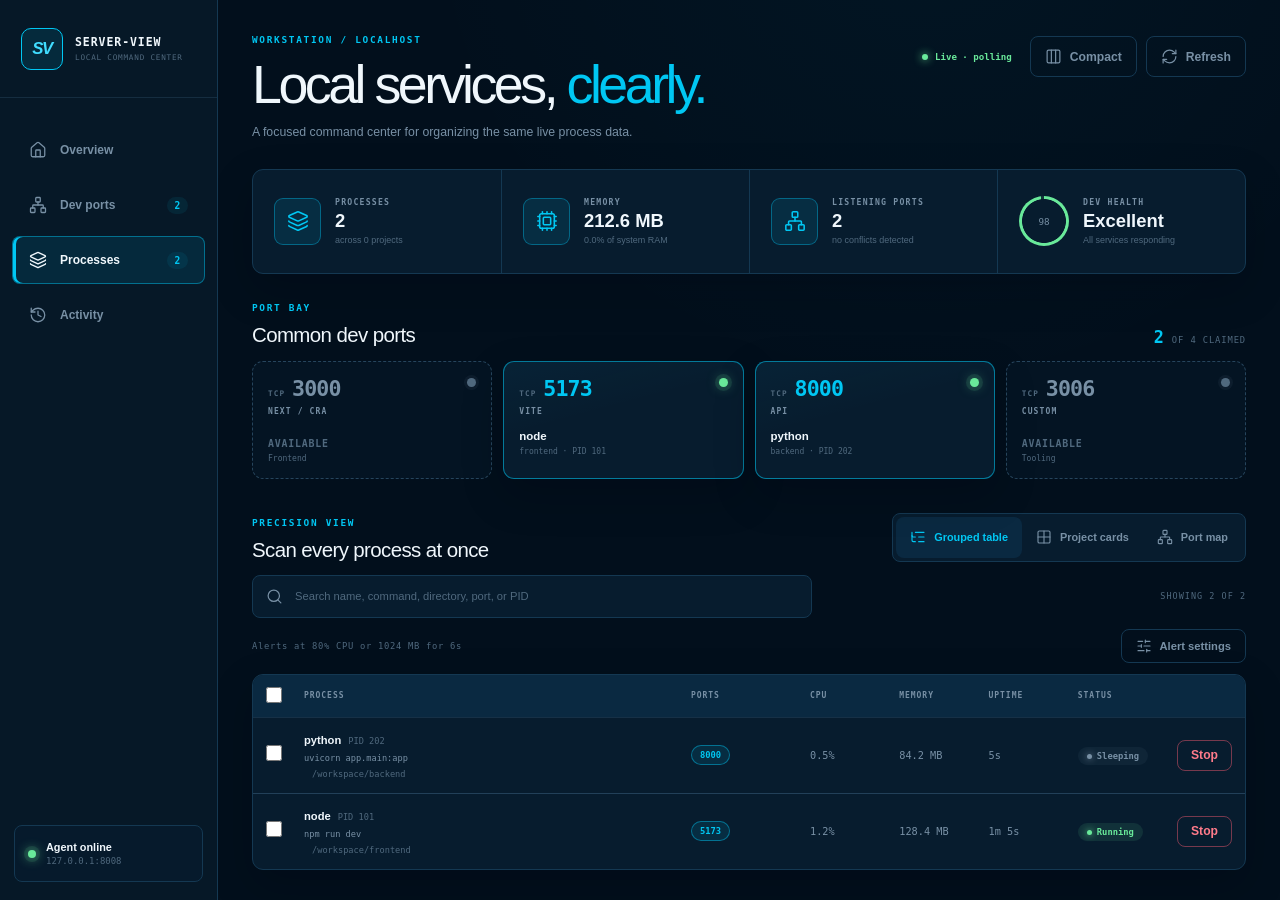
Scenario: App › renders populated table and filters by port and cwd
Expected: the text "npm run dev" is shown, [304,829,361,839]
Expected: the text "uvicorn app.main:app" is shown, [304,753,408,763]
Step 1. Type "uvicorn" into the search field labelled "Search" → [532, 596], box [252,575,812,618]
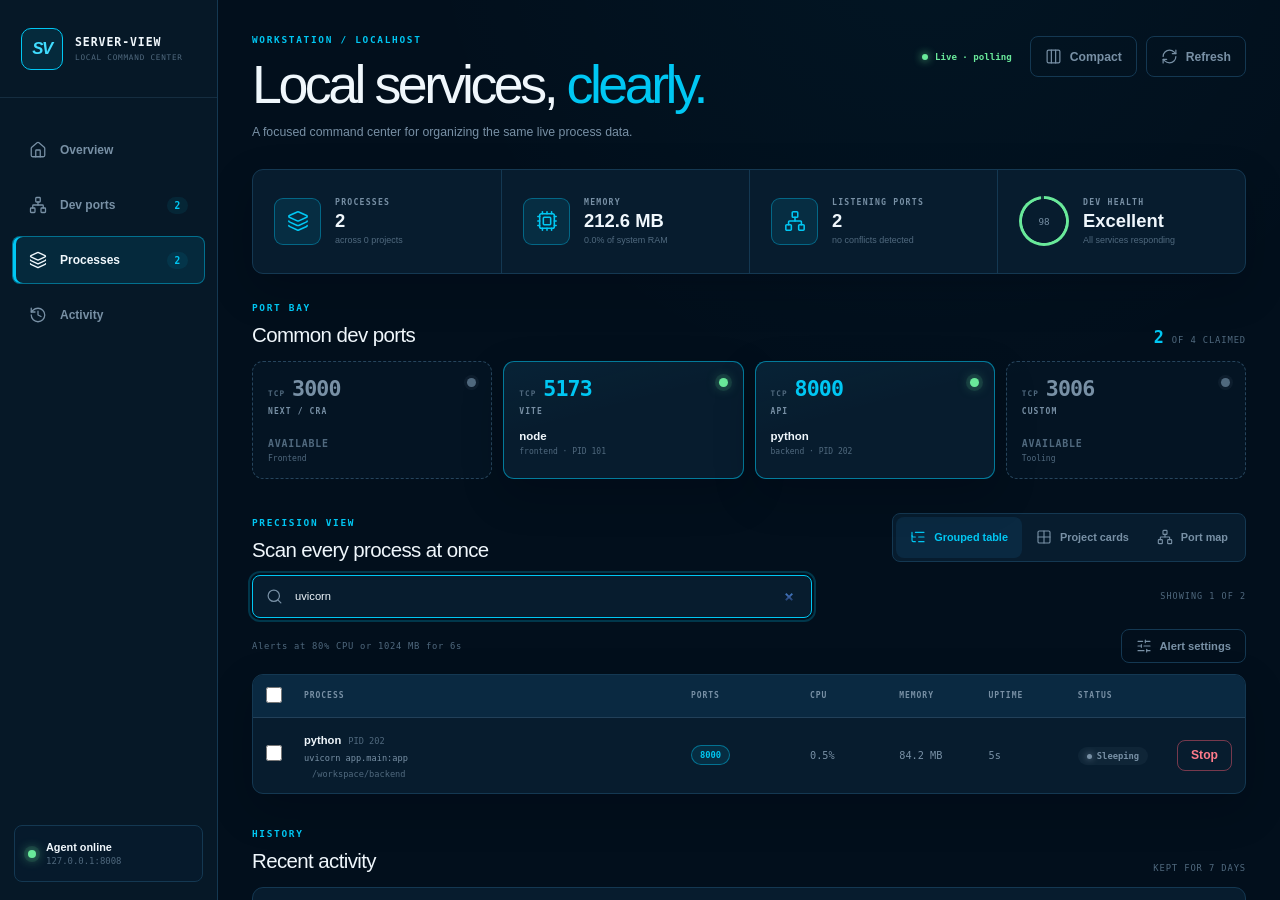
Expected: the text "uvicorn app.main:app" is shown, [304,753,408,763]
Expected: the text "npm run dev" is gone
Step 2. Replace the text in the search field named "Search" with "frontend" → [532, 596], box [252,575,812,618]
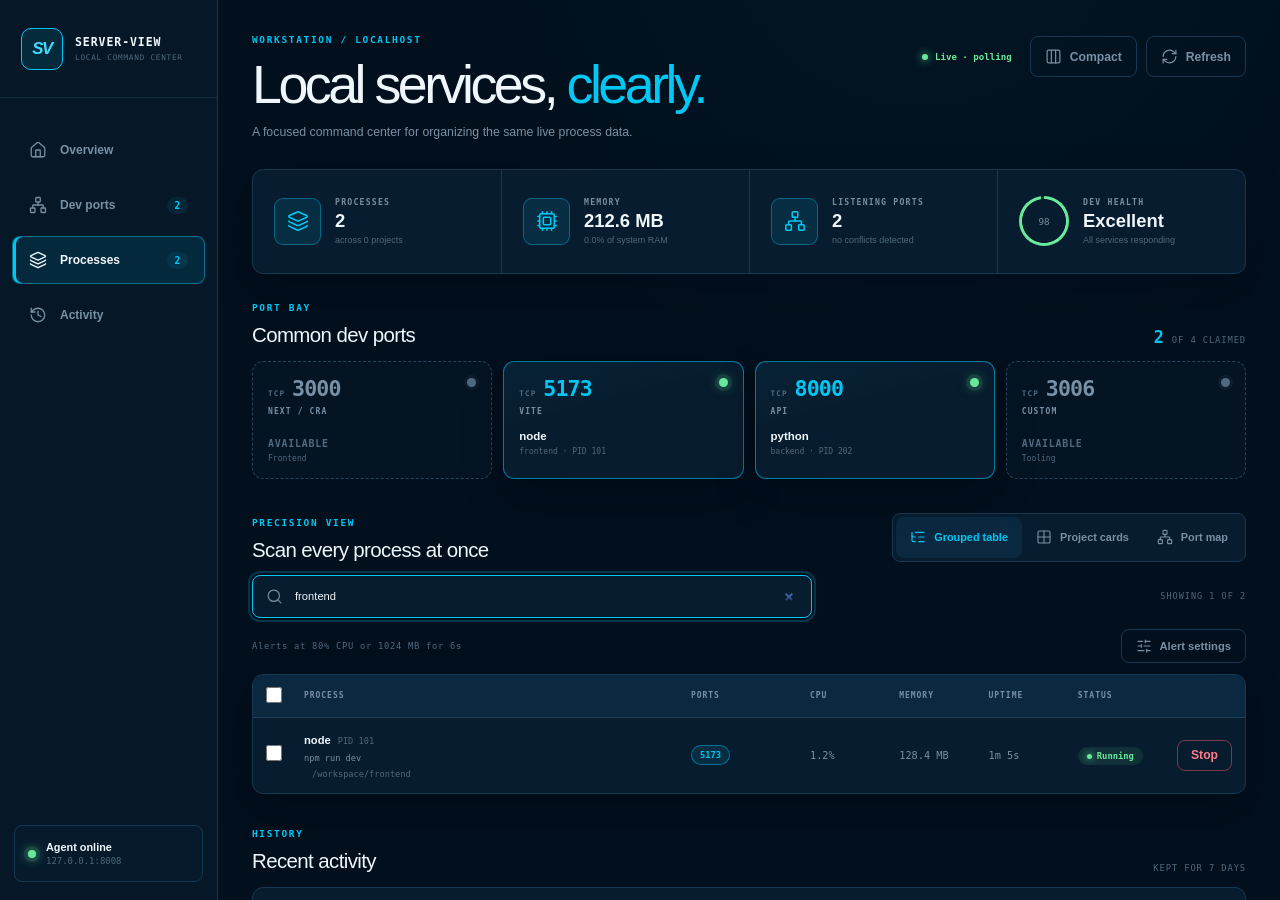
Expected: the text "npm run dev" is shown, [304,753,361,763]
Expected: the text "uvicorn app.main:app" is gone
